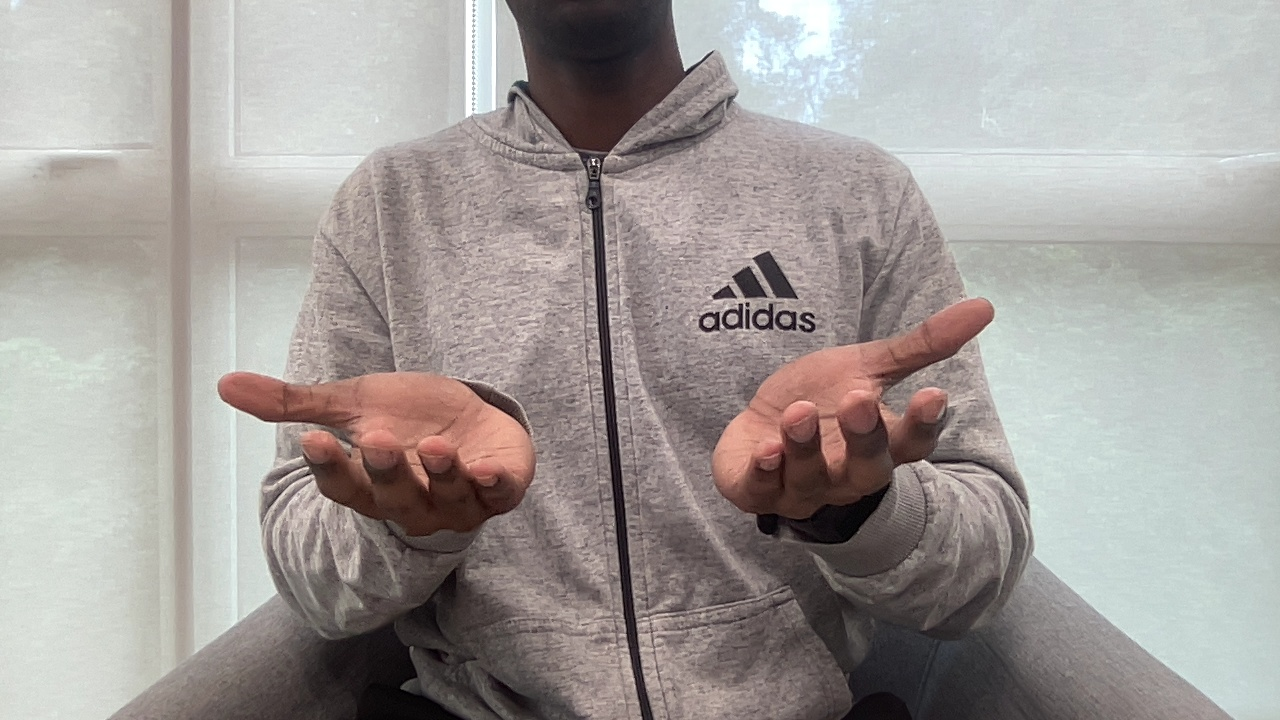give: (210, 288, 999, 547)
